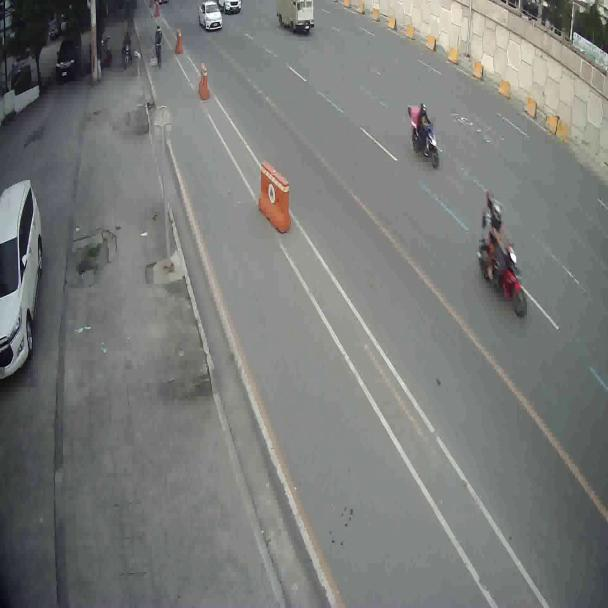motorcyclist: (475, 208, 526, 320), (407, 101, 440, 166)
vehicle: (1, 176, 40, 380), (280, 0, 314, 36), (198, 2, 223, 32)
